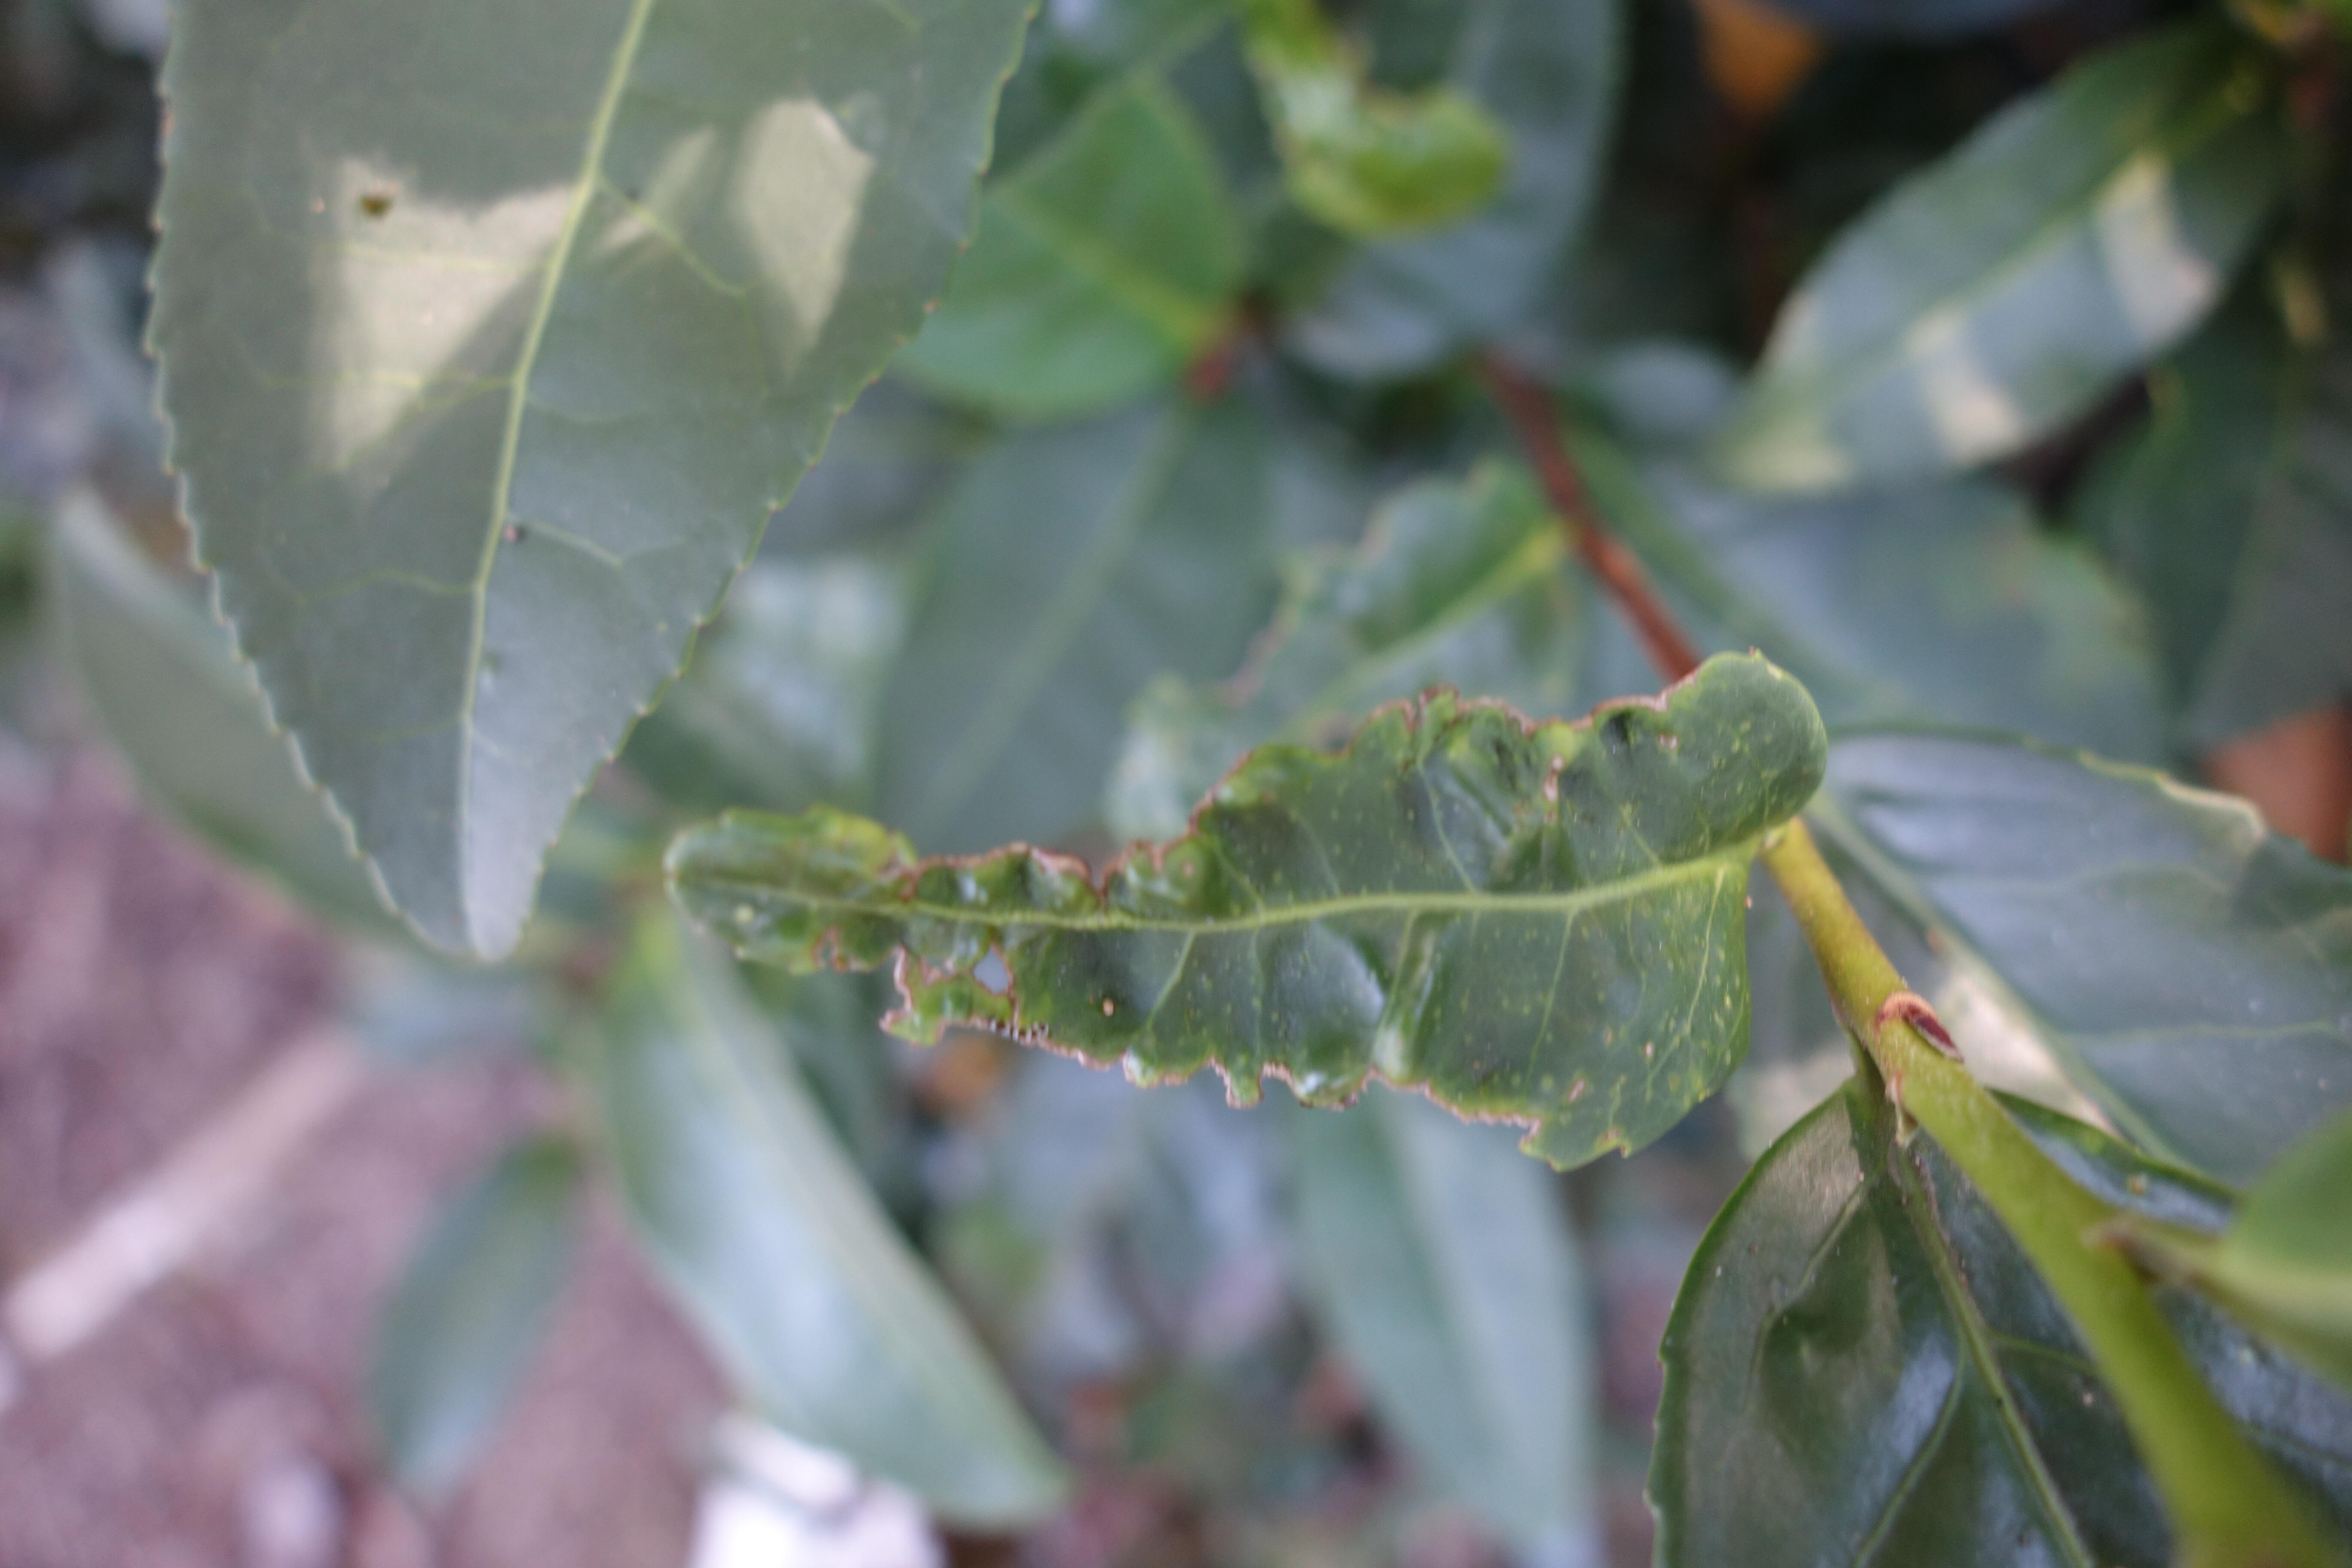chihuo_high: (658, 646, 1830, 1174)
